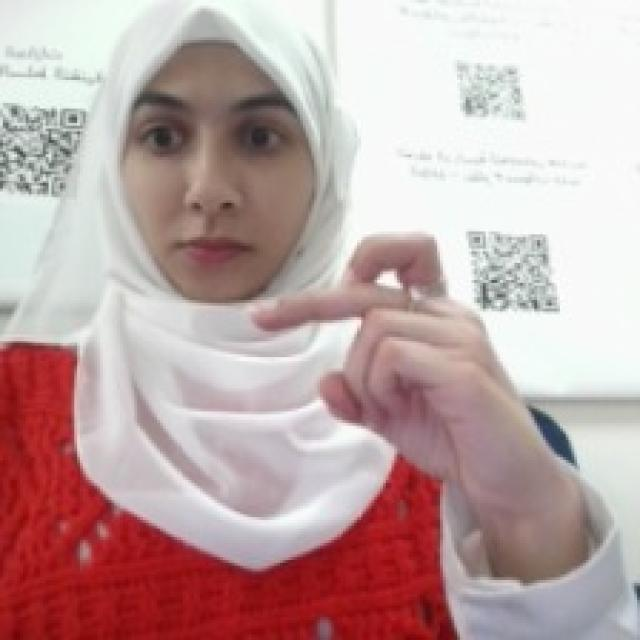sunday: (240, 220, 520, 469)
